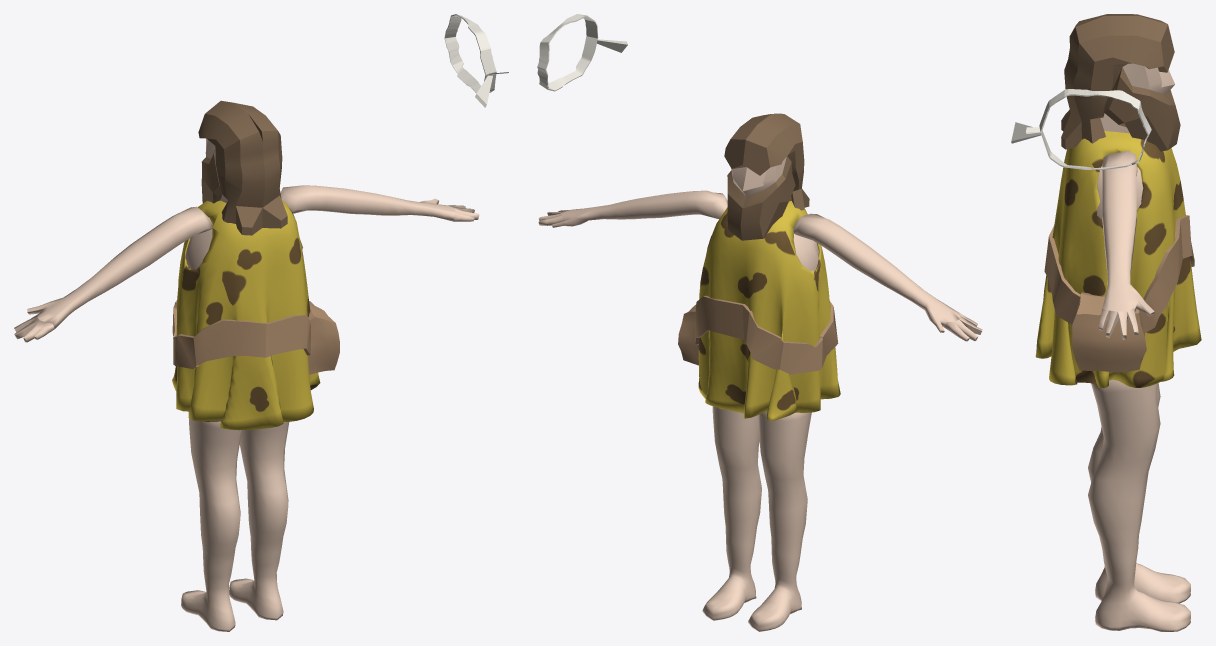
Rendered from caveman_2_mixamo.fbx.
3 renders of one model, left to right at view 1: azimuth 30°, elevation 25°; view 2: azimuth 150°, elevation 25°; view 3: azimuth 270°, elevation 25°, orthographic. The views are drawn at different scales.
Visible parts, largest first — view 1: Caveman_2_Mixamo; view 2: Caveman_2_Mixamo; view 3: Caveman_2_Mixamo.
Part boxes in pixels (x1=…): Caveman_2_Mixamo: x1=14, y1=14, x2=508, y2=631; Caveman_2_Mixamo: x1=537, y1=14, x2=982, y2=631; Caveman_2_Mixamo: x1=1011, y1=14, x2=1201, y2=631.
Bounding box in the file's own units: 161 × 185 × 49.63.
5 materials, 1 textured.
